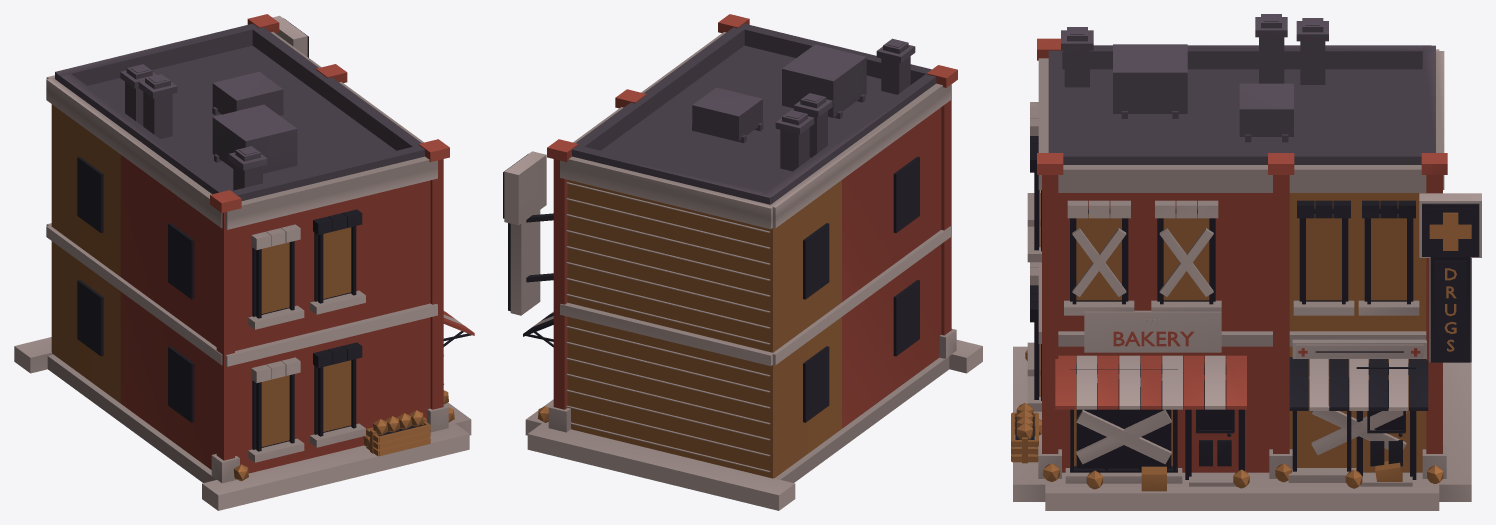
Rendered from bld.mainstreet-brick.w2.lod2.glb.
The picture shows the model from 3 angles, left to right: view 1: azimuth 30°, elevation 25°; view 2: azimuth 150°, elevation 25°; view 3: azimuth 270°, elevation 25°; orthographic projection. The views are drawn at different scales.
Visible parts, largest first — view 1: object 5, roof; view 2: object 5, roof; view 3: object 5, roof, door_bakery, door_pharmacy.
Boxes of the visible parts, x1,y1,x2,y2 form: object 5: (14, 14, 474, 510); roof: (55, 23, 424, 200); object 5: (503, 14, 982, 510); roof: (572, 23, 936, 204); object 5: (1011, 38, 1481, 510); roof: (1048, 14, 1435, 164); door_bakery: (1196, 380, 1234, 466); door_pharmacy: (1367, 380, 1405, 466).
Size of the model in its own units: 7.36 by 8.55 by 9.7.
